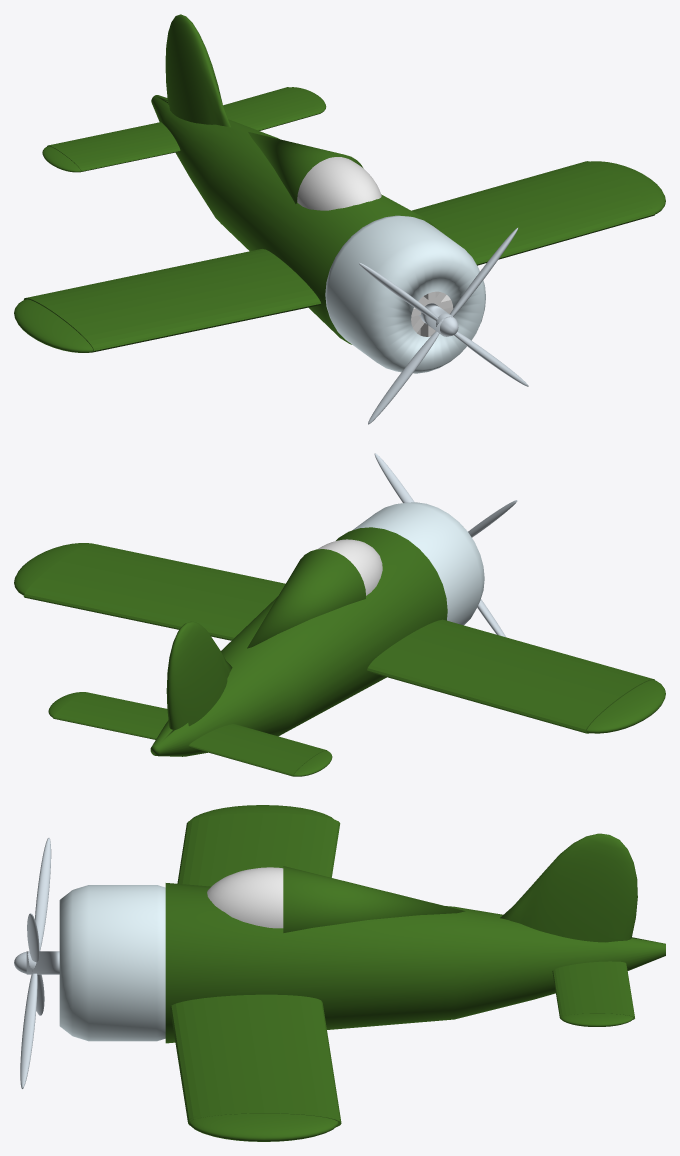
Rendered from airplane63.gltf.
3 views of the same model, one above another, from view 1: azimuth 30°, elevation 25°; view 2: azimuth 150°, elevation 25°; view 3: azimuth 270°, elevation 25° (orthographic). The views are drawn at different scales.
Visible parts, largest first — view 1: Cylinder.006, Cylinder.007, Sphere.002, Sphere.005; view 2: Cylinder.006, Cylinder.007, Sphere.005, Sphere.002; view 3: Cylinder.006, Cylinder.007, Sphere.002, Sphere.005.
Part boxes in pixels (<box>): Cylinder.006: <box>14,14,665,352</box>; Cylinder.007: <box>325,215,485,373</box>; Sphere.002: <box>359,228,528,424</box>; Sphere.005: <box>297,157,381,210</box>; Cylinder.006: <box>14,527,665,776</box>; Cylinder.007: <box>352,502,484,625</box>; Sphere.005: <box>318,539,382,595</box>; Sphere.002: <box>374,453,517,637</box>; Cylinder.006: <box>165,805,665,1141</box>; Cylinder.007: <box>59,885,165,1041</box>; Sphere.002: <box>14,838,59,1088</box>; Sphere.005: <box>207,867,283,928</box>.
Size of the model in its own units: 12.84 by 3.98 by 10.64.
